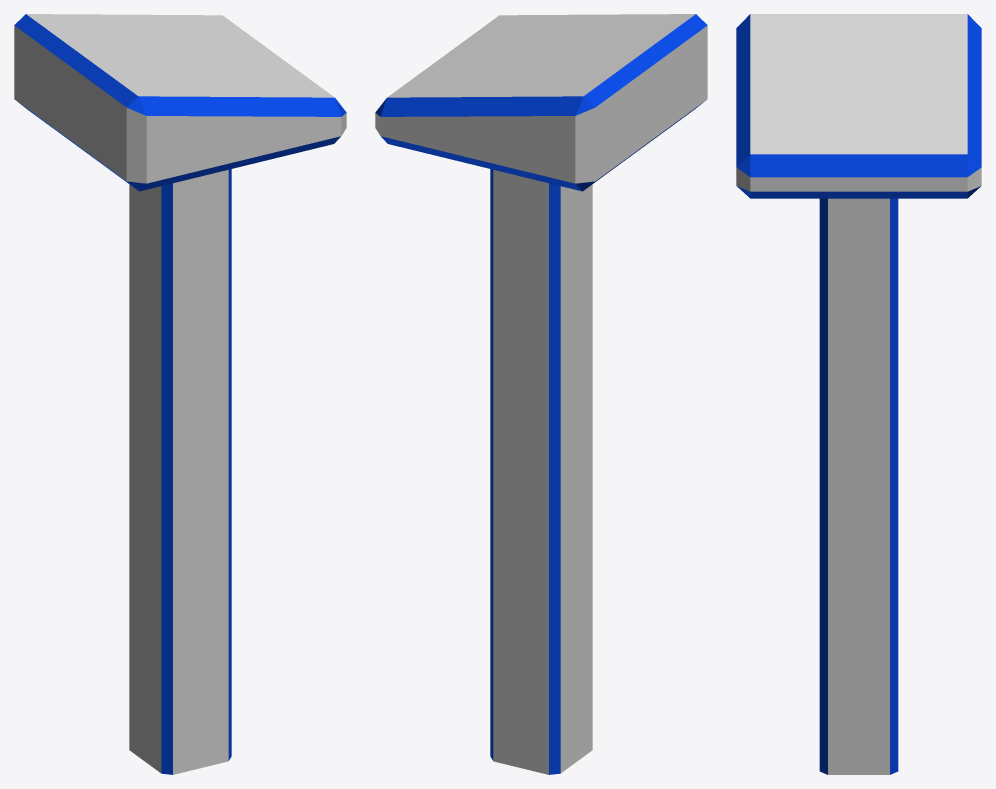
Rendered from Push.fbx.
3 renders of one model, left to right at view 1: azimuth 30°, elevation 25°; view 2: azimuth 150°, elevation 25°; view 3: azimuth 270°, elevation 25°, orthographic. The views are drawn at different scales.
Parts seen in each view (by area): view 1: Push; view 2: Push; view 3: Push.
Boxes of the visible parts, x1,y1,x2,y2 form: Push: (14, 14, 346, 774); Push: (375, 14, 707, 774); Push: (736, 14, 981, 774).
Size of the model in its own units: 370 by 1159 by 370.
